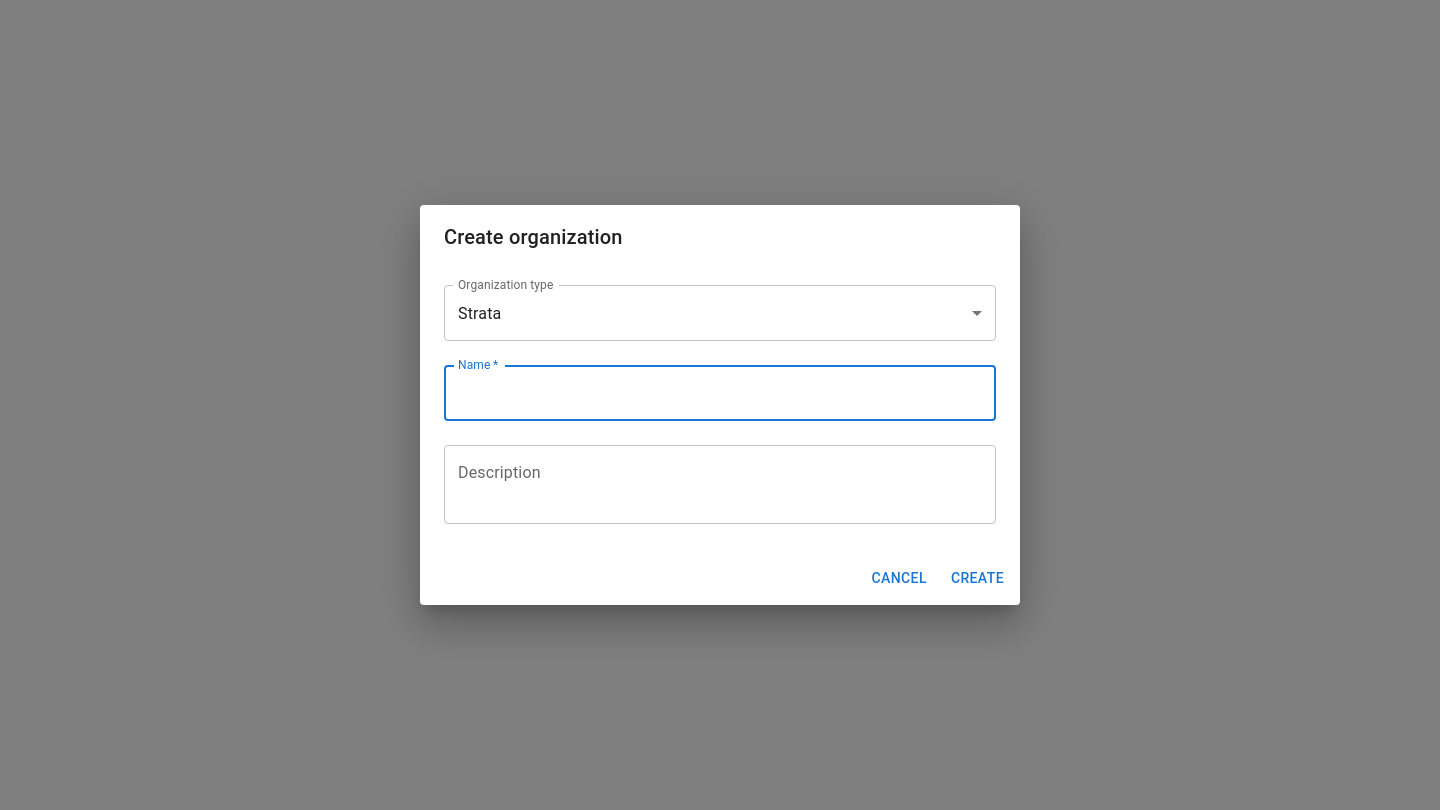
Test: clears private input and refuses recovery after current access returns 403
Type "Original Organization" into the field labelled "Name". click: (720, 393)
box: [444,365,996,421]
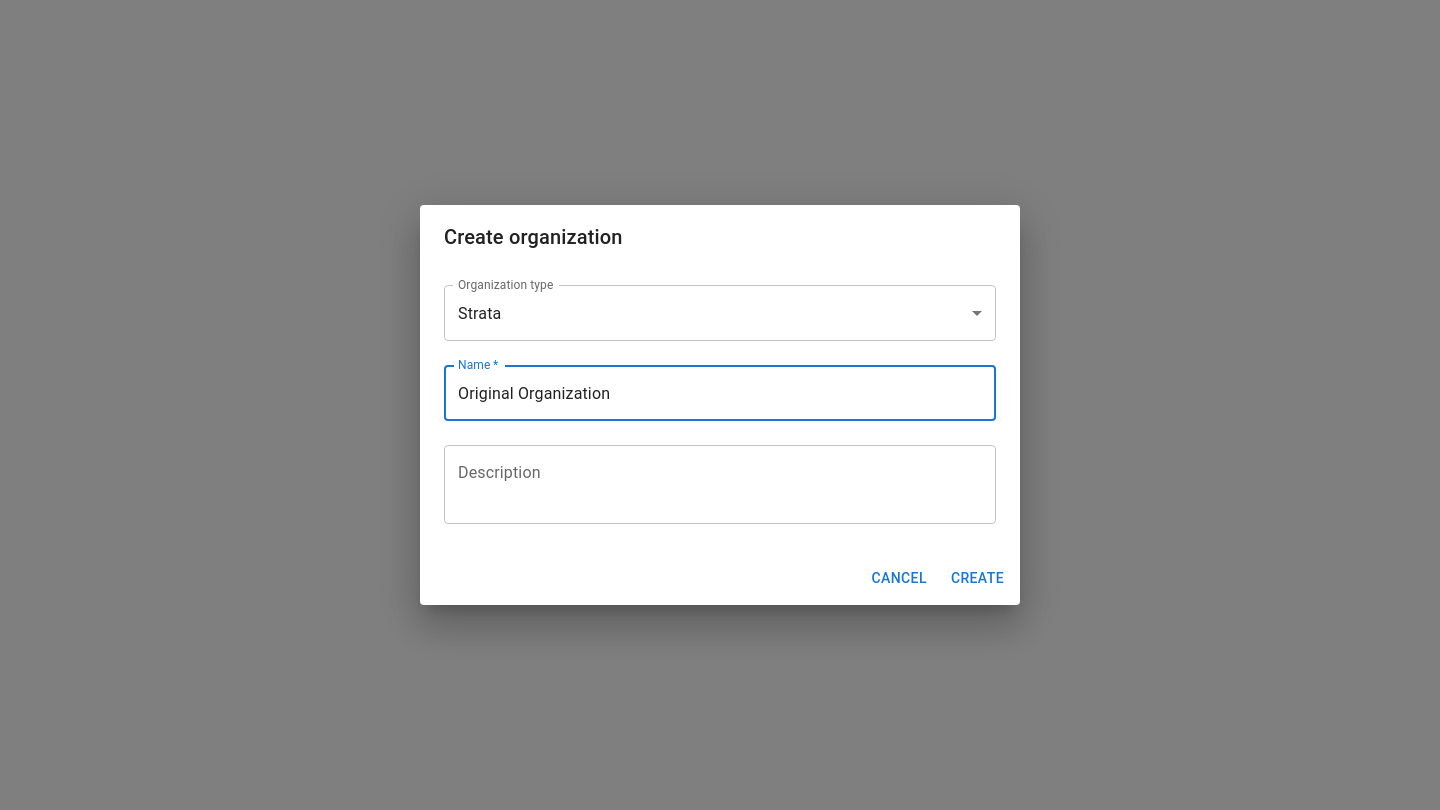
Click the button "Create". click: (977, 579)
box: [943,560,1012,597]
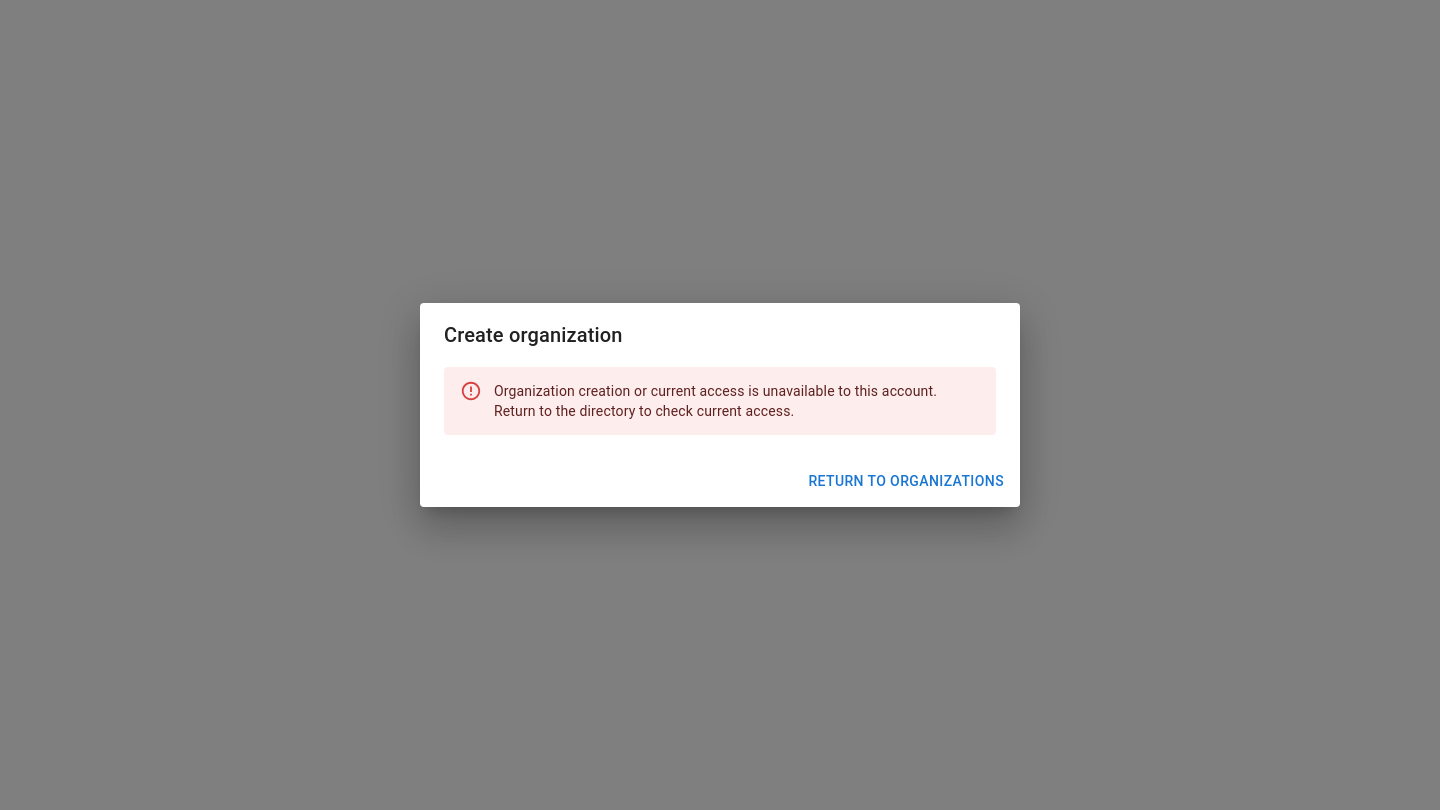
Expected: the field showing "Original Organization" is not shown
Expected: the text "creation or current access is unavailable" is shown, [494,383,937,419]
